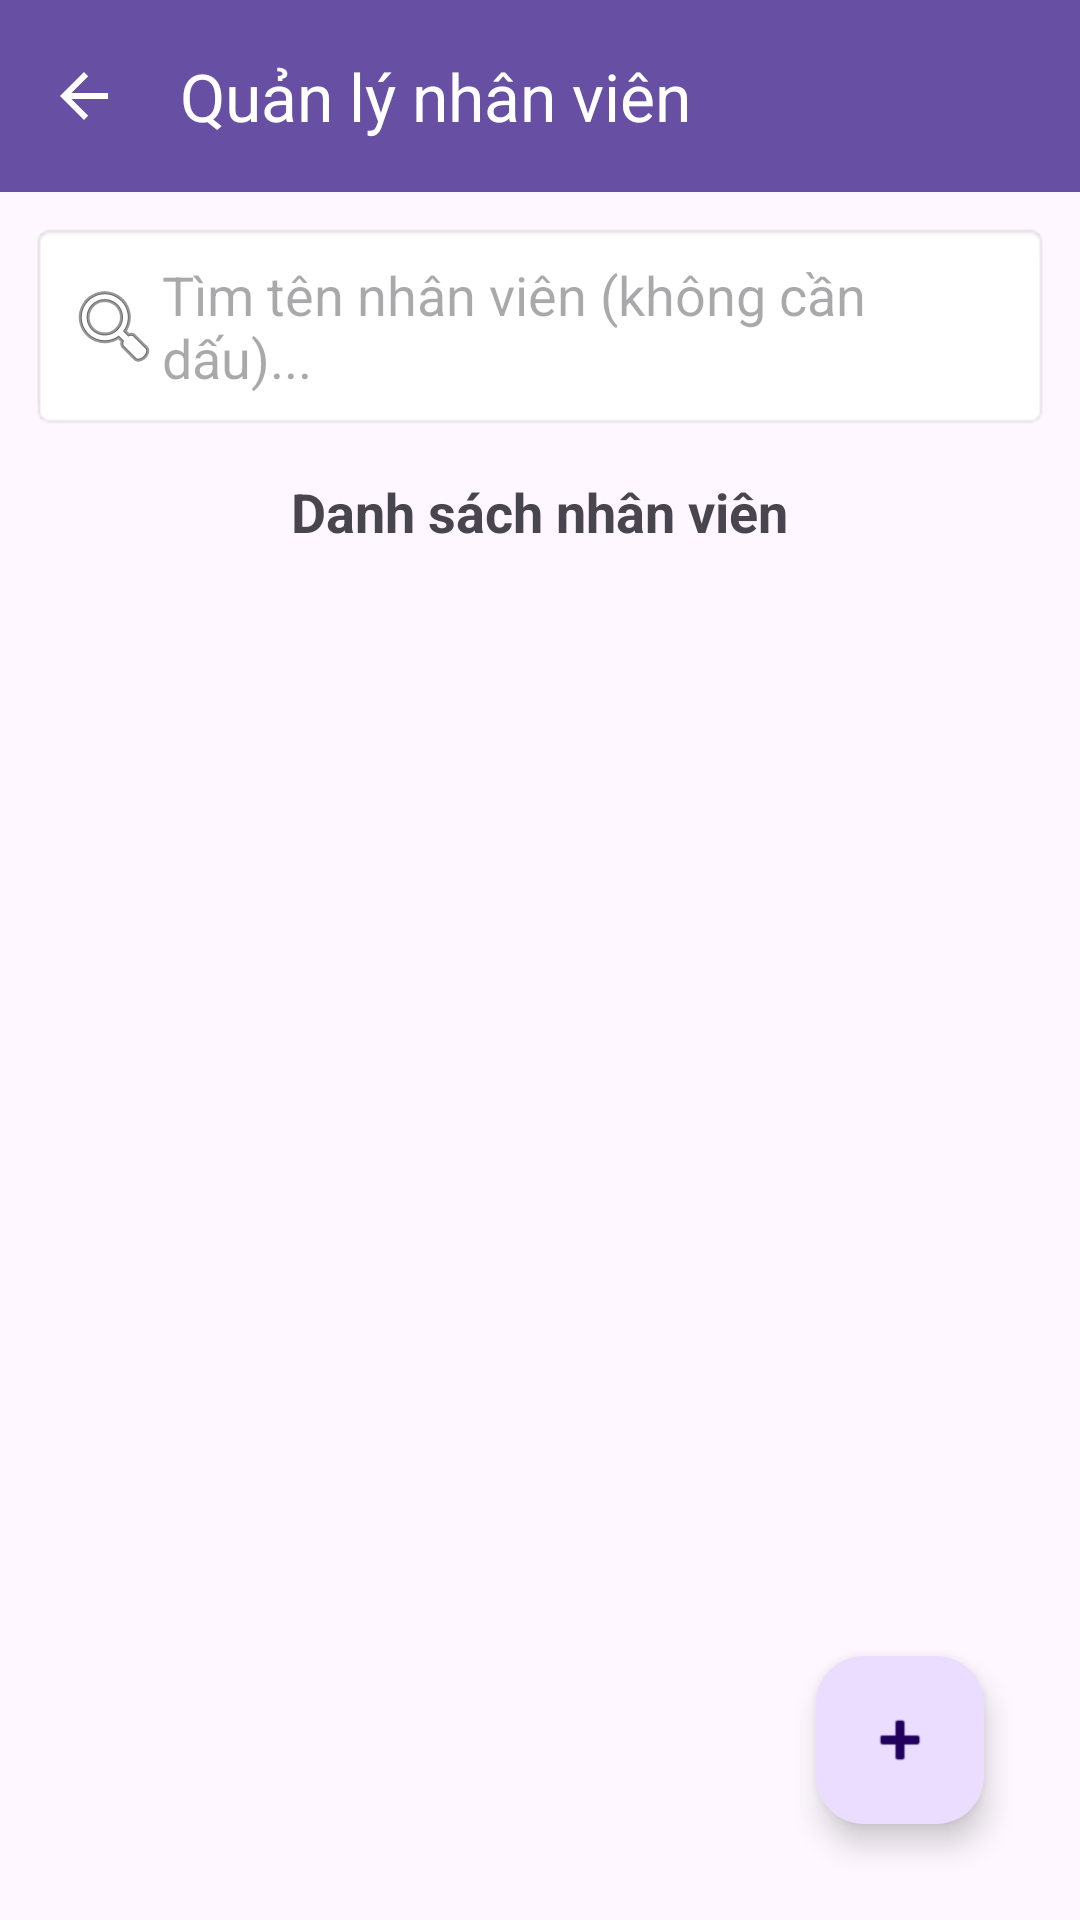

Icons on this 1080x1920 Android screen, each with the point to tap as (x,y):
Thêm nhân viên: (900,1740)
